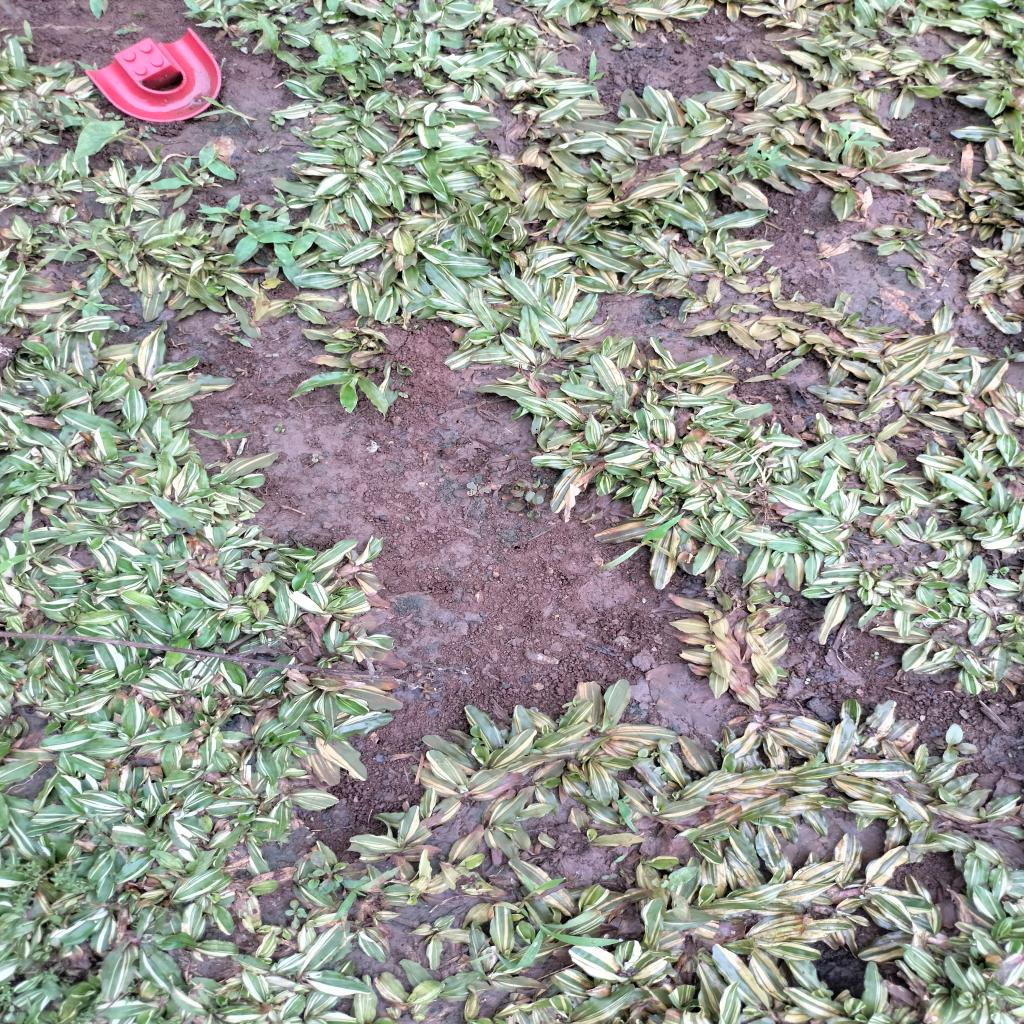akar wangi palsu: (717, 131, 794, 179), (826, 116, 884, 160)
bayi: (773, 591, 791, 603), (868, 649, 880, 662), (801, 228, 819, 236), (396, 390, 410, 400), (265, 351, 280, 360), (767, 206, 780, 215), (804, 676, 812, 685)
buah daun: (240, 548, 279, 578), (210, 311, 244, 337)
lumut besar: (4, 857, 88, 909)
rambat atas: (524, 900, 625, 959), (199, 199, 299, 254), (601, 516, 677, 566), (180, 0, 240, 40), (183, 140, 240, 181), (200, 94, 262, 126), (32, 228, 78, 269), (144, 160, 201, 191), (745, 359, 803, 384), (518, 873, 568, 901), (73, 291, 124, 316), (612, 794, 643, 835), (193, 427, 254, 445), (343, 874, 378, 904), (587, 48, 606, 86), (74, 232, 104, 252)
rambat bawah: (293, 366, 390, 416)
tunggang besar: (312, 32, 362, 84)
